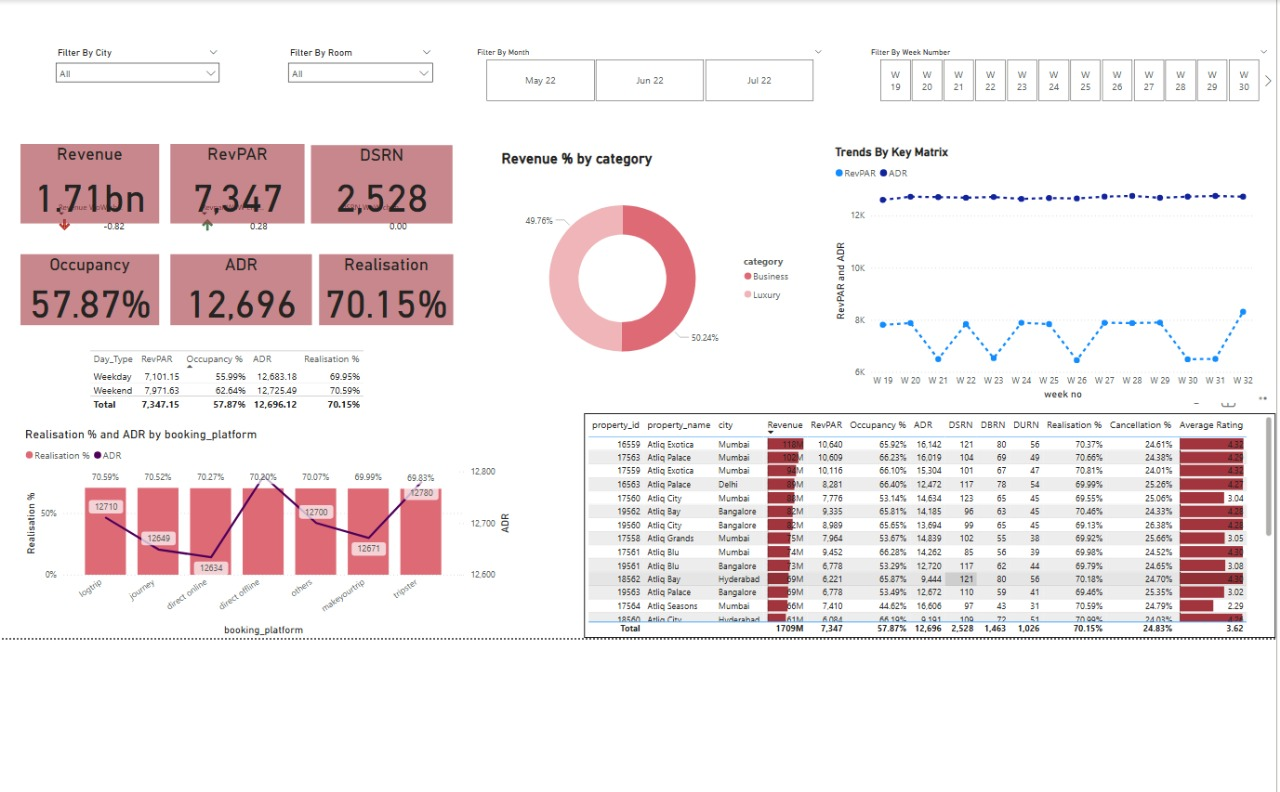

The page's visual inventory and layout, read from the dashboard file:
{"tool":"powerbi","page":{"name":"Dashboard","canvas":[1800,900],"ordinal":0},"visuals":[{"type":"tableEx","fields":{"Values":["dim_hotels.property_id","dim_hotels.property_name","dim_hotels.city","Key_Measures.Revenue","Key_Measures.RevPAR","Key_Measures.Occupancy %","Key_Measures.ADR","Key_Measures.DSRN","Key_Measures.DBRN","Key_Measures.DURN","Key_Measures.Realisation %","Key_Measures.Cancellation %"]},"box":[825.3,582.5,973,317.5],"z":0},{"type":"slicer","fields":{"Values":["dim_hotels.city"]},"box":[72.6,62.3,251.1,87.2],"z":1000},{"type":"slicer","fields":{"Values":["dim_date.week no"]},"box":[1216.2,62.3,583.2,87.2],"z":2000},{"type":"slicer","fields":{"Values":["dim_rooms.room_class"]},"box":[398.5,62.3,224.2,87.2],"z":3000},{"type":"slicer","fields":{"Values":["dim_date.mmm yy"]},"box":[662.1,62.3,510.6,87.2],"z":4000},{"type":"donutChart","title":"Revenue % by category","fields":{"Category":["dim_hotels.category"],"Y":["Key_Measures.Occupancy %"]},"box":[704.7,210.6,424.5,339.6],"z":5000},{"type":"tableEx","fields":{"Values":["Key_Measures.Revenue WoW change %"]},"box":[74.7,277.2,124.5,60.2],"z":6000},{"type":"card","title":"Occupancy","fields":{"Values":["Key_Measures.Occupancy %"]},"box":[33.2,358.1,195.1,99.6],"z":7000},{"type":"card","title":"ADR","fields":{"Values":["Key_Measures.ADR"]},"box":[242.8,358.1,199.2,99.6],"z":8000},{"type":"card","title":"Realisation","fields":{"Values":["Key_Measures.Realisation %"]},"box":[452.5,358.1,188.9,99.6],"z":9000},{"type":"card","title":"Revenue","fields":{"Values":["Key_Measures.Revenue"]},"box":[33.2,202.5,195.1,112.1],"z":10000},{"type":"tableEx","fields":{"Values":["Key_Measures.Revpar WoW change %"]},"box":[276,277.2,137,60.2],"z":11000},{"type":"tableEx","fields":{"Values":["Key_Measures.DSRN WoW change %"]},"box":[473.1,277.3,123.9,60.6],"z":12000},{"type":"card","title":"RevPAR","fields":{"Values":["Key_Measures.RevPAR"]},"box":[242.8,202.5,188.9,112.1],"z":13000},{"type":"card","title":"DSRN","fields":{"Values":["Key_Measures.DSRN"]},"box":[442.1,204.5,199.2,110],"z":14000},{"type":"lineChart","title":"Trends By Key Matrix","fields":{"Category":["dim_date.mmm yy.Variation.Date Hierarchy.Month","dim_date.week no"],"Y":["Key_Measures.RevPAR","Key_Measures.ADR"]},"box":[1173.4,203.8,601.1,363.4],"z":15000},{"type":"lineStackedColumnComboChart","fields":{"Category":["facts_bookings.booking_platform"],"Y":["Key_Measures.Realisation %"],"Y2":["Key_Measures.ADR"]},"box":[34,601.1,694.5,298.9],"z":16000},{"type":"tableEx","fields":{"Values":["dim_date.Day_Type","Key_Measures.RevPAR","Key_Measures.Occupancy %","Key_Measures.ADR","Key_Measures.Realisation %"]},"box":[124,489.1,400.8,93.4],"z":16001}]}

Visuals, with their boxes on the page's 1800x900 design canvas (x1, y1, x2, y2). These are canvas units, not pixel positions in the 1280x792 screenshot, which may show the page scaled, cropped or inside an application window:
tableEx - dim_hotels.property_id x dim_hotels.property_name: 825:582:1798:900
slicer - dim_hotels.city: 73:62:324:150
slicer - dim_date.week no: 1216:62:1799:150
slicer - dim_rooms.room_class: 398:62:623:150
slicer - dim_date.mmm yy: 662:62:1173:150
"Revenue % by category" donutChart: 705:211:1129:550
tableEx - Key_Measures.Revenue WoW change %: 75:277:199:337
"Occupancy" card: 33:358:228:458
"ADR" card: 243:358:442:458
"Realisation" card: 452:358:641:458
"Revenue" card: 33:202:228:315
tableEx - Key_Measures.Revpar WoW change %: 276:277:413:337
tableEx - Key_Measures.DSRN WoW change %: 473:277:597:338
"RevPAR" card: 243:202:432:315
"DSRN" card: 442:204:641:314
"Trends By Key Matrix" lineChart: 1173:204:1774:567
lineStackedColumnComboChart - facts_bookings.booking_platform x Key_Measures.Realisation %: 34:601:728:900
tableEx - dim_date.Day_Type x Key_Measures.RevPAR: 124:489:525:582
